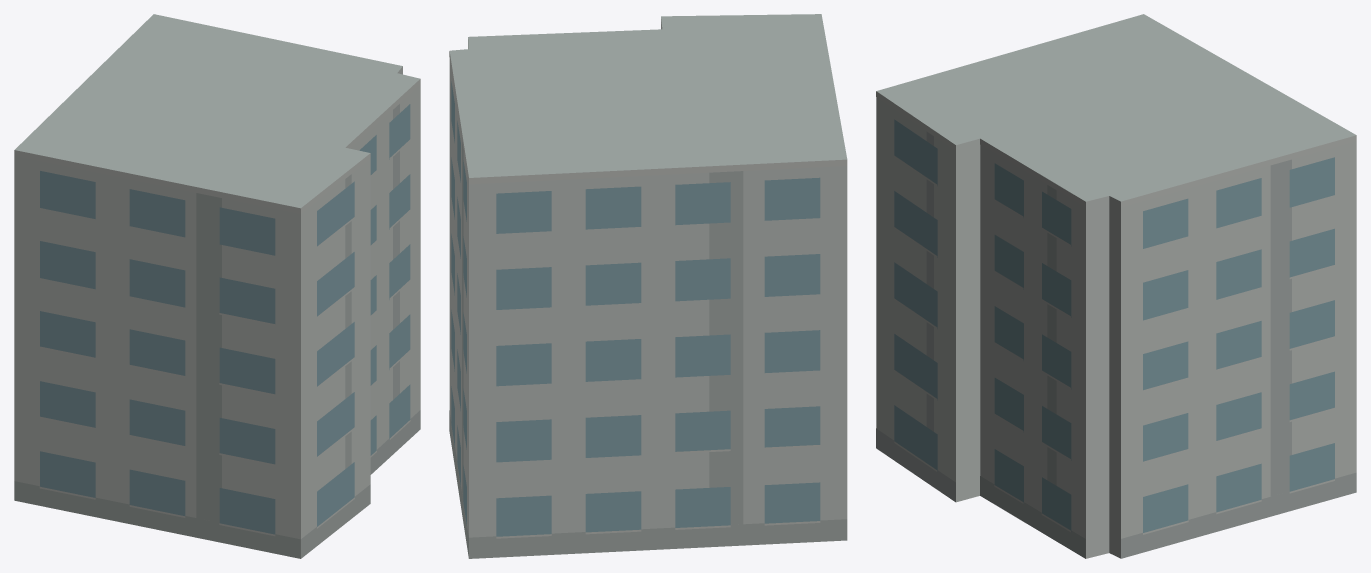
Rendered from survey-upis-32814812.glb.
3 views of the same model, side by side, from view 1: azimuth 30°, elevation 25°; view 2: azimuth 150°, elevation 25°; view 3: azimuth 270°, elevation 25° (orthographic). The views are drawn at different scales.
Parts seen in each view (by area): view 1: survey-upis-32814812.tmp; view 2: survey-upis-32814812.tmp; view 3: survey-upis-32814812.tmp.
Boxes of the visible parts, left/top/right/bottom form: survey-upis-32814812.tmp: left=14, top=14, right=420, bottom=558; survey-upis-32814812.tmp: left=449, top=14, right=847, bottom=558; survey-upis-32814812.tmp: left=876, top=14, right=1356, bottom=558.
Bounding box in the file's own units: 16.35 × 14.5 × 17.69.
